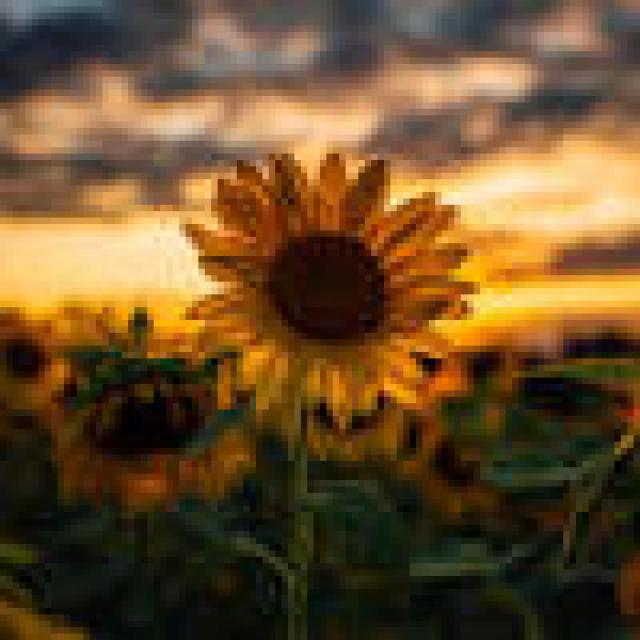sunflower: (182, 144, 509, 438), (0, 301, 70, 416)
